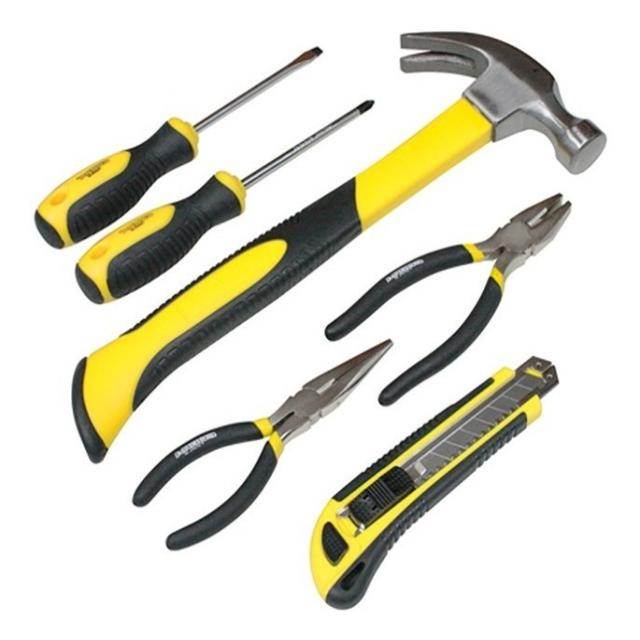Screwdriver: (76, 102, 372, 304), (35, 47, 321, 247)
